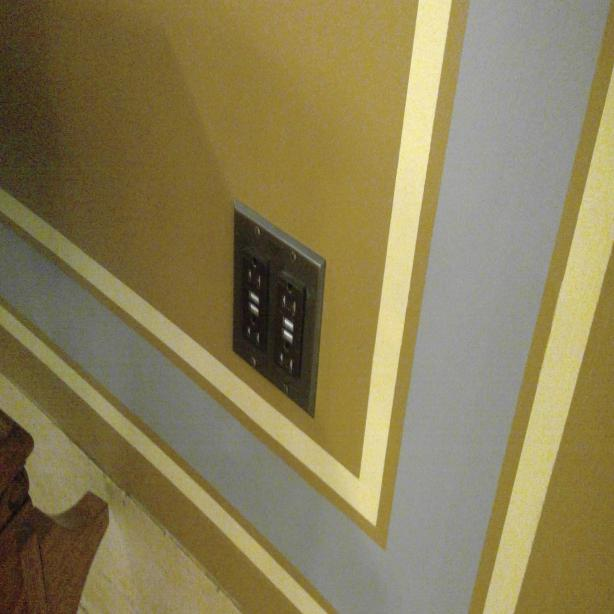typeb: (279, 277, 302, 315), (276, 337, 298, 373), (244, 311, 264, 348), (244, 257, 264, 291)
